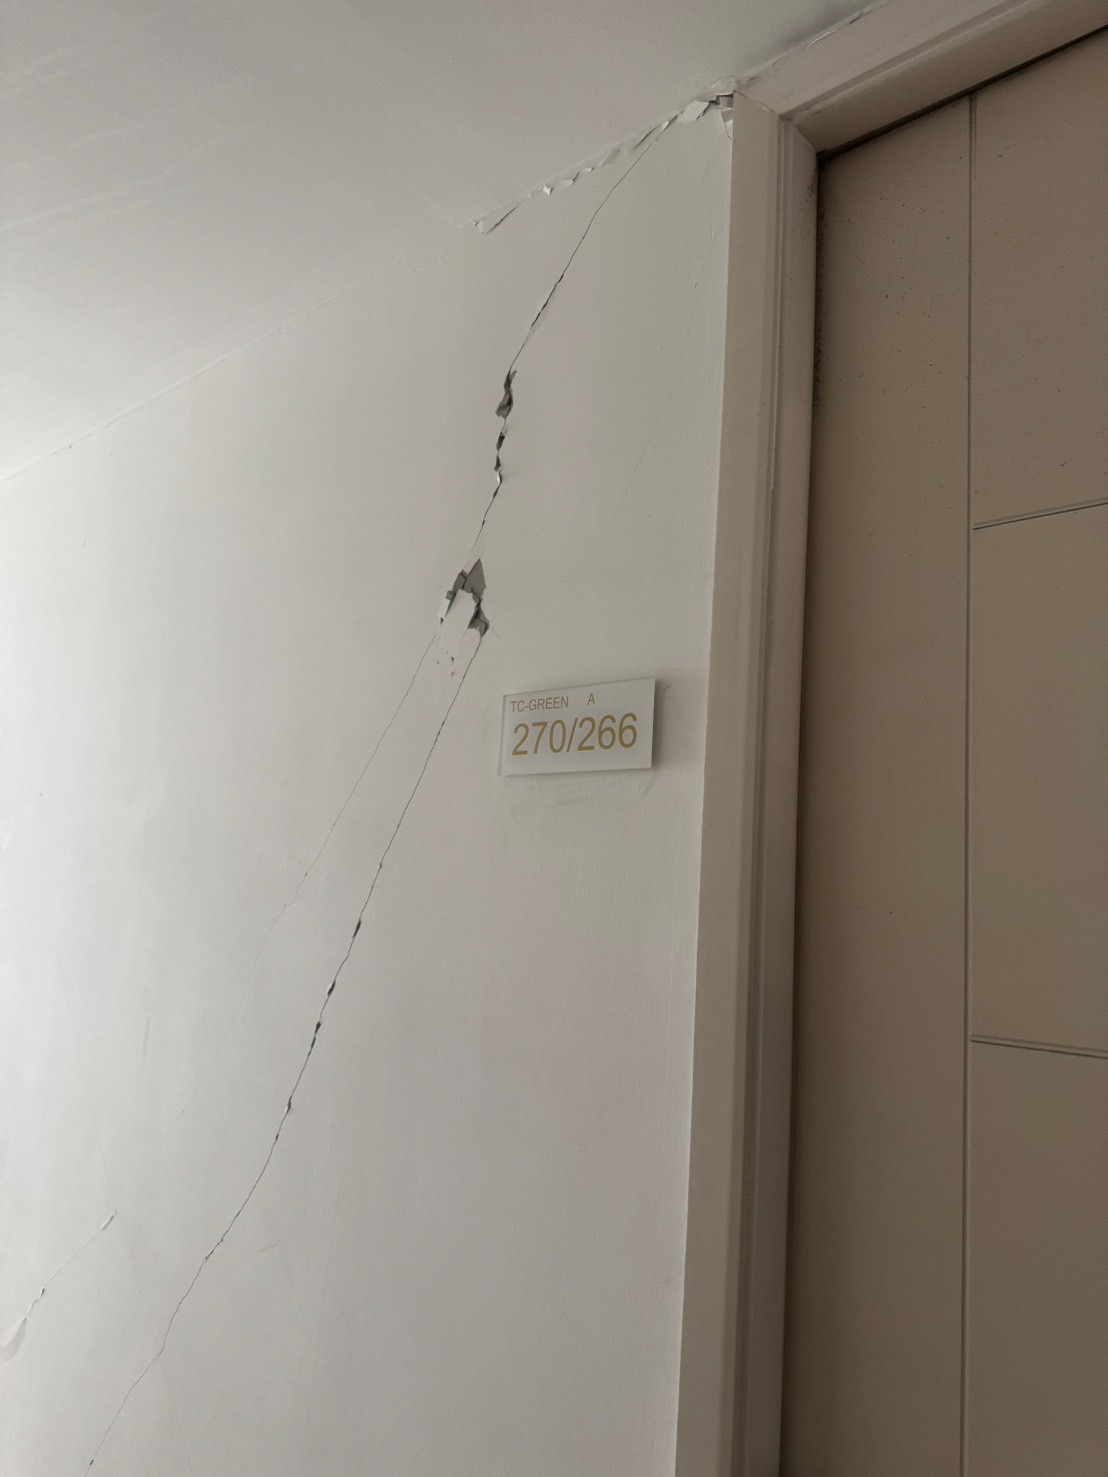Low: (76, 80, 737, 1453)
